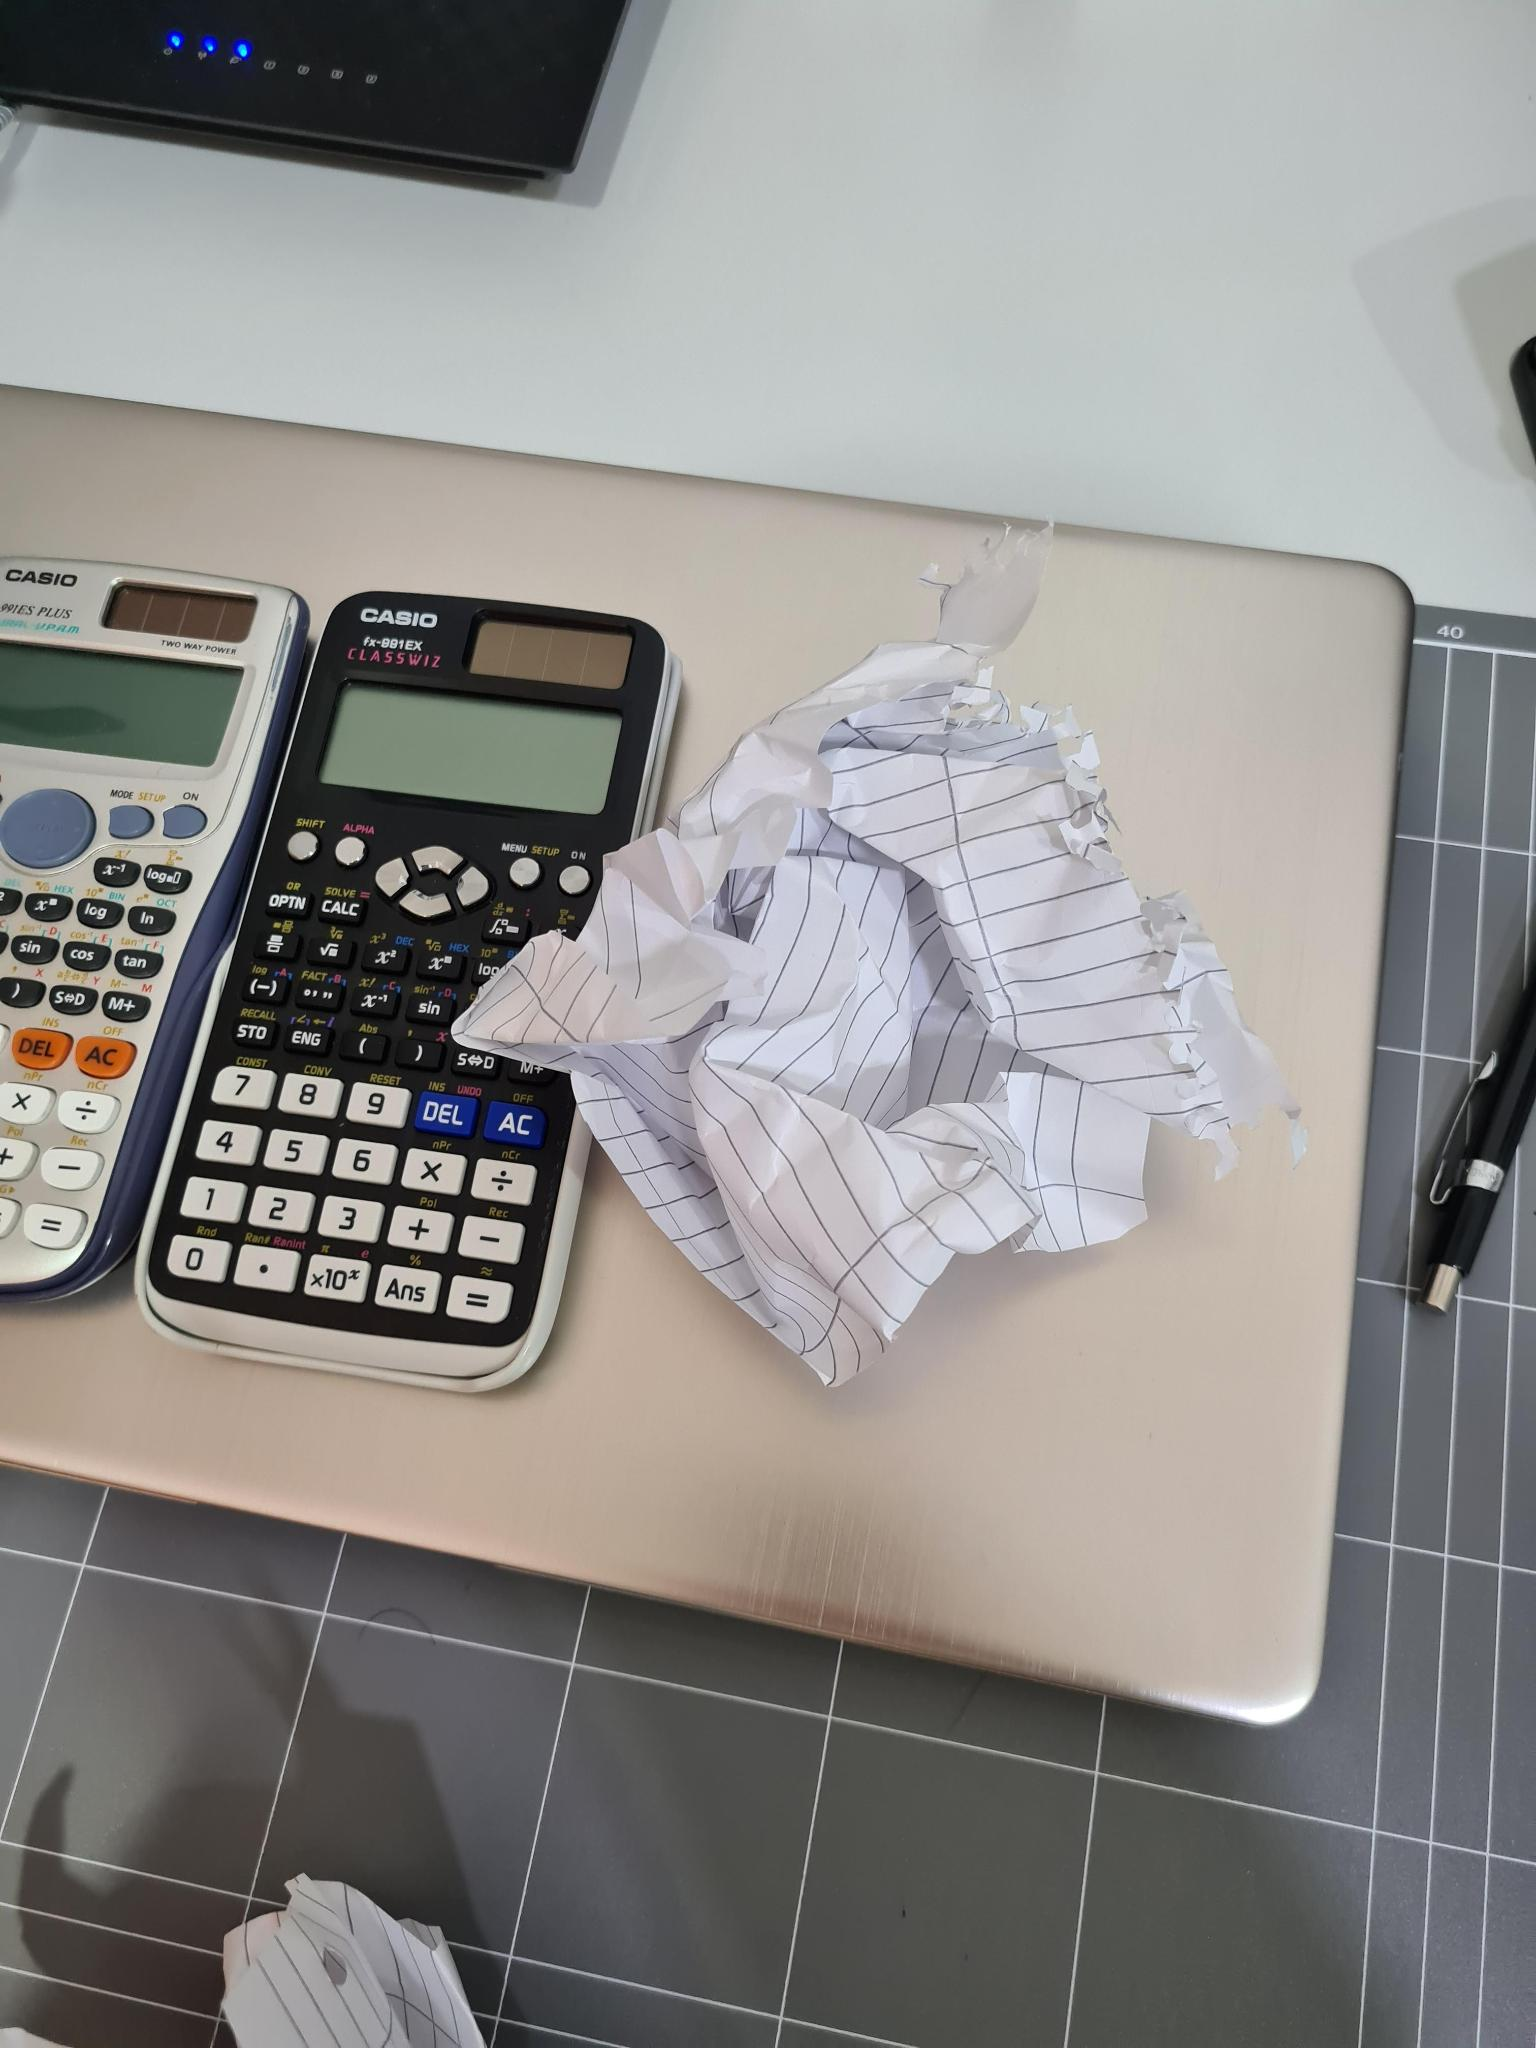paper: (457, 643, 1303, 1384), (222, 1876, 481, 2047)
